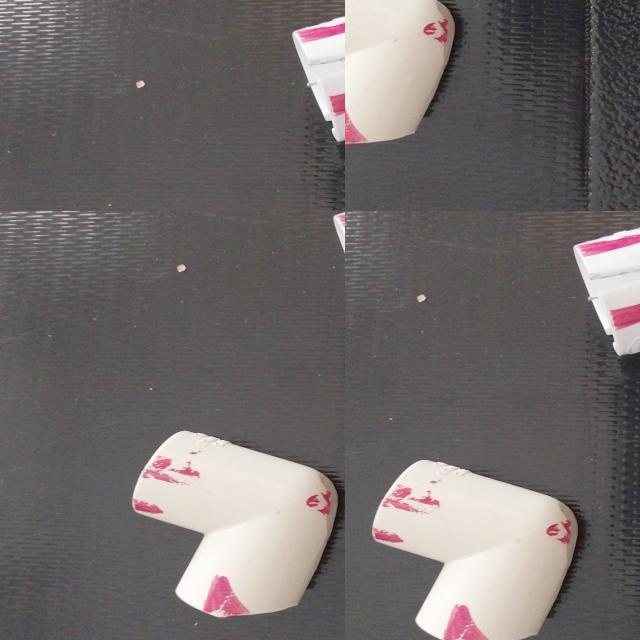Defective: (345, 148, 466, 211), (361, 0, 420, 41), (394, 472, 423, 541), (600, 291, 640, 332), (447, 607, 491, 640), (581, 240, 640, 257)
L Joint: (371, 461, 580, 640), (345, 0, 500, 211)
